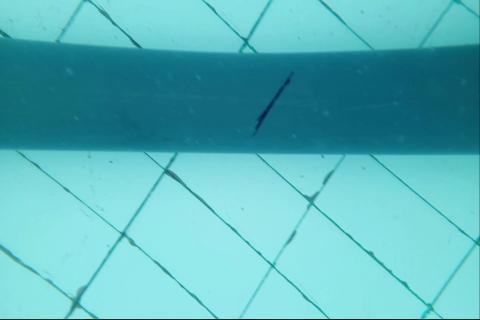keretakan: (253, 69, 295, 131)
